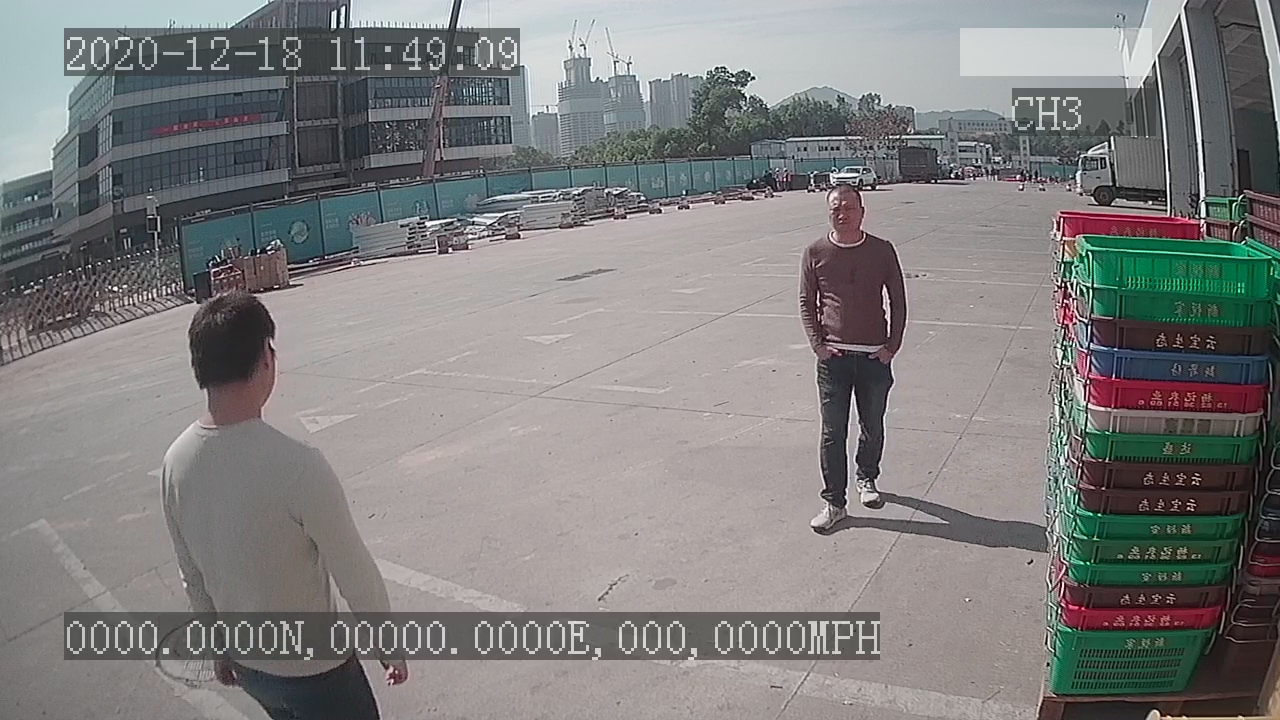person: (795, 179, 911, 538)
